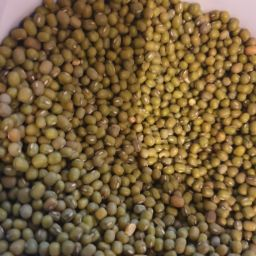Green gram dal(moong): (89, 23, 191, 256), (20, 18, 256, 108), (36, 20, 113, 256), (179, 24, 256, 256), (35, 110, 222, 205), (2, 38, 53, 256)
